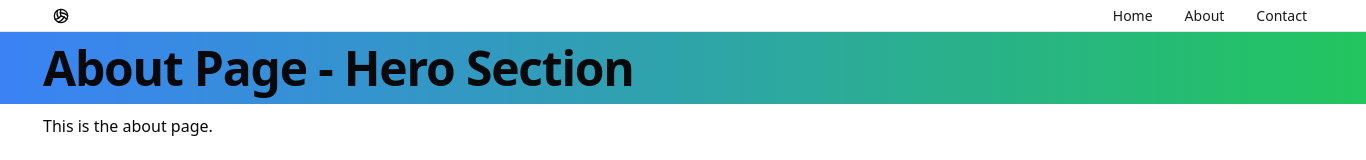
Routing Tests › navigates to ContactPage when Contact link is clicked
The width and height of the screenshot is (1366, 160).
Expected: the navigation bar with test id "nav" is shown, [1113,6,1307,24]
Expected: the link with test id "link-home" is shown, [1113,6,1153,24]
Note: Simulate a click on the Contact link
Click the link with test id "link-contact".
click(1282, 15)  # box [1256,6,1307,24]
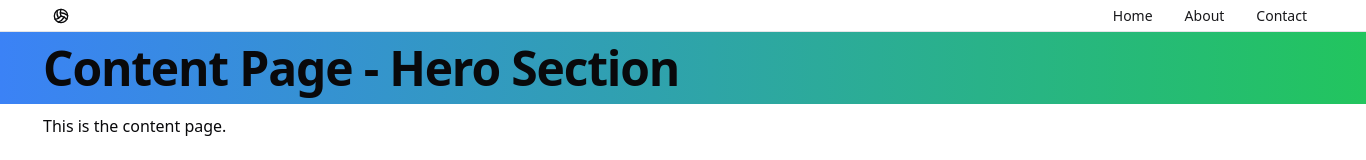
Expected: the navigation bar with test id "nav" is shown, [1113,6,1307,24]
Result: the element with test id "page-contact" is shown
